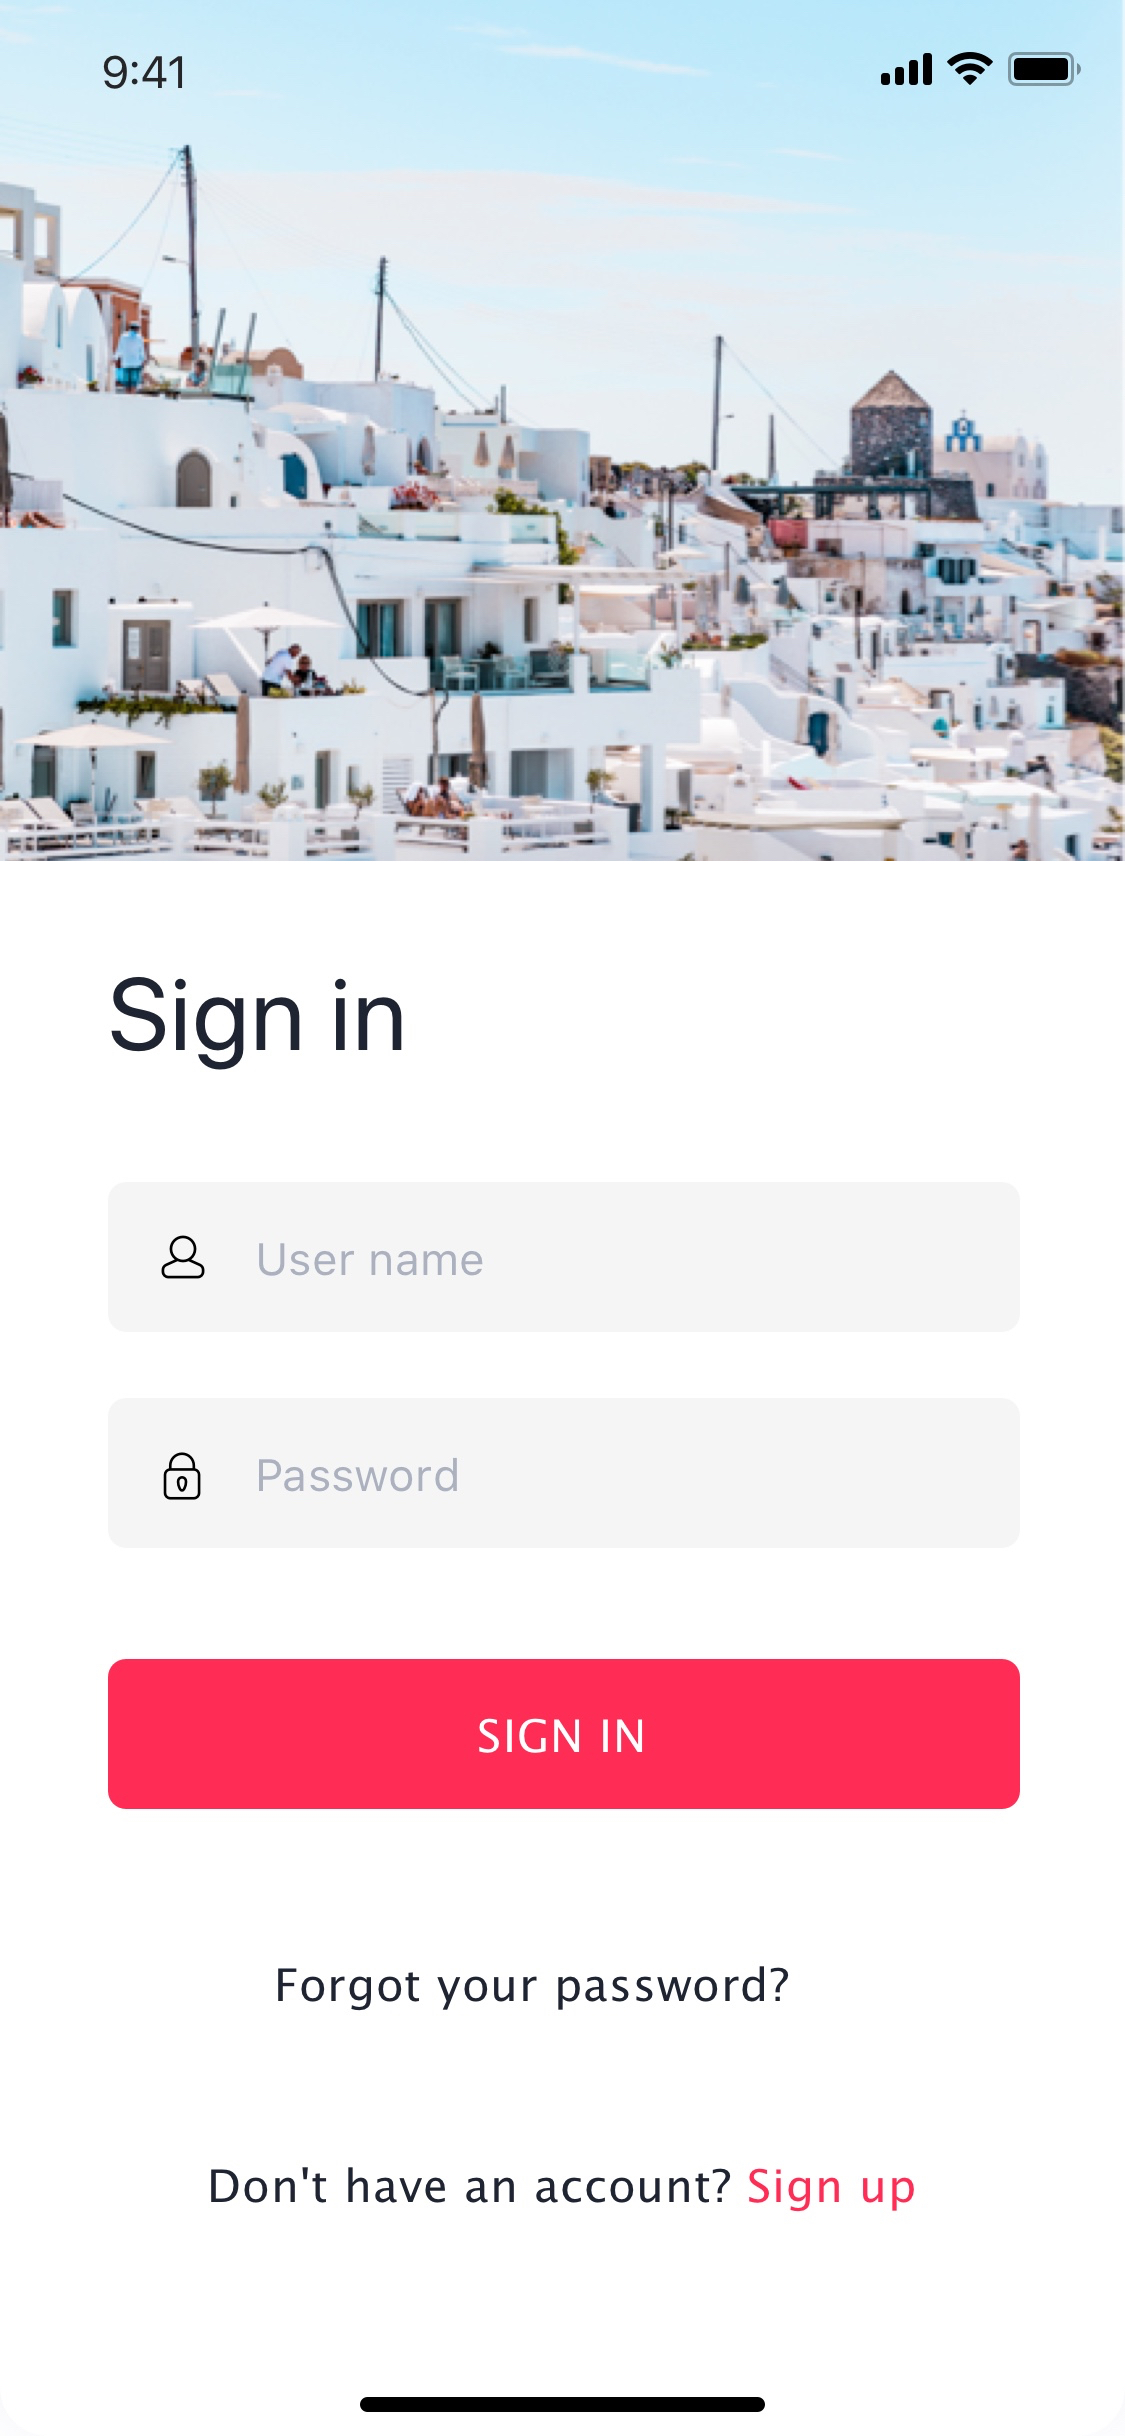EditText: (109, 1182, 1021, 1333), (109, 1398, 1021, 1549)
Icon: (162, 1235, 207, 1280), (165, 1453, 202, 1501)
Image: (2, 2, 1125, 862)
Text: (211, 2166, 915, 2212), (110, 976, 402, 1070), (278, 1965, 789, 2010), (256, 1241, 485, 1275), (259, 1457, 458, 1495)
TextButton: (109, 1659, 1021, 1810)
UpperTaskBar: (104, 51, 1081, 92)
